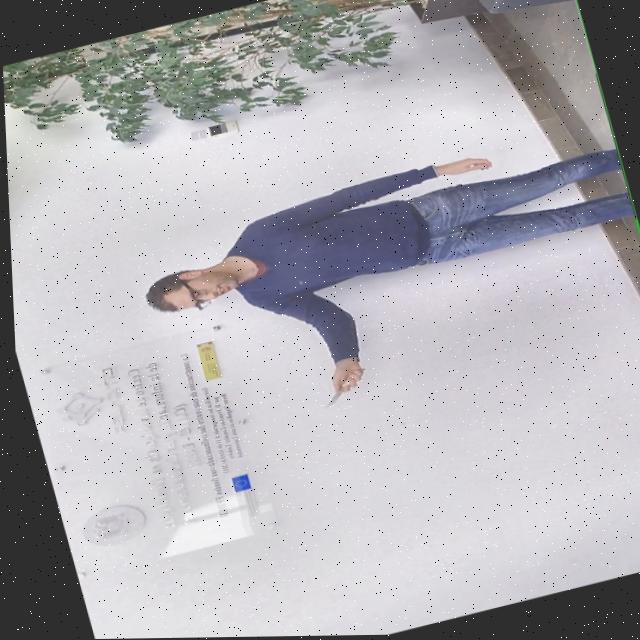knife: (317, 390, 344, 411)
